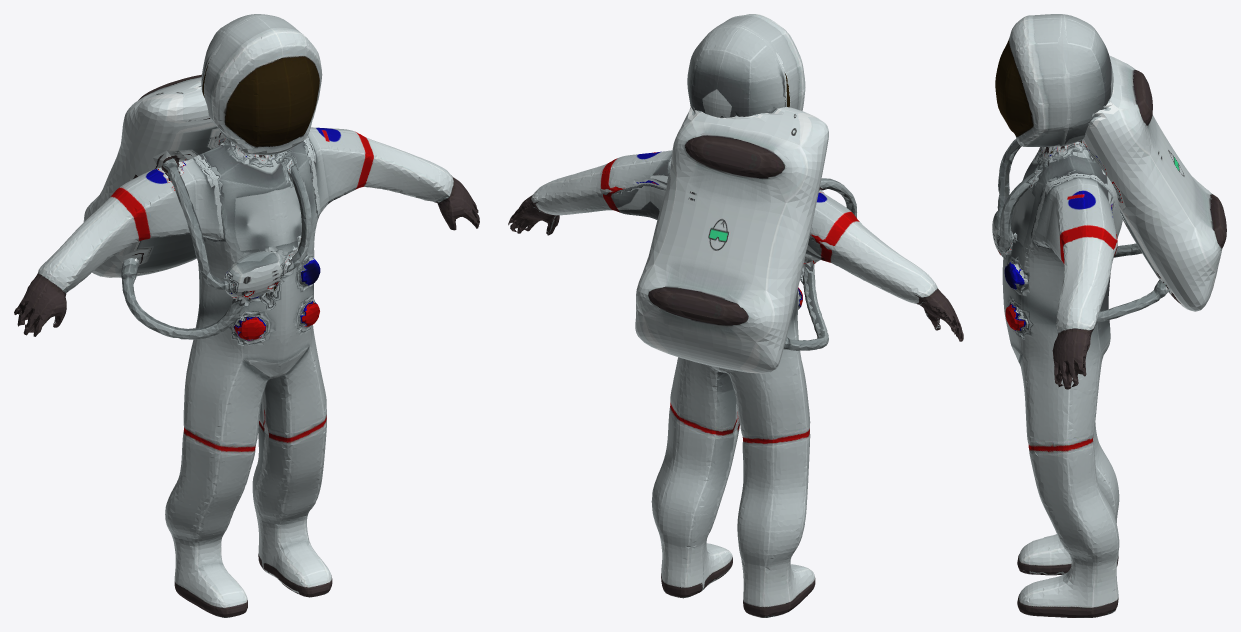
The model's file is astronauta.obj.
3 renders of one model, left to right at view 1: azimuth 30°, elevation 25°; view 2: azimuth 150°, elevation 25°; view 3: azimuth 270°, elevation 25°, orthographic. The views are drawn at different scales.
Bounding box in the file's own units: 1.67 × 2 × 0.7437.
1 material, 1 textured.
